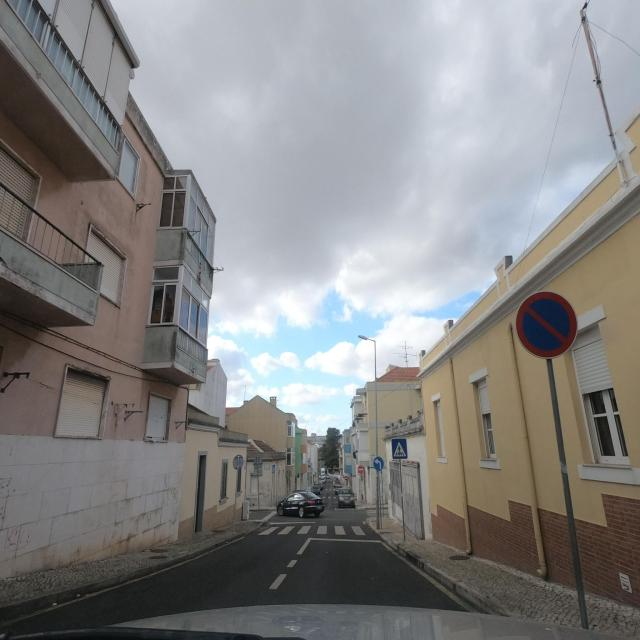forb_stopping: (515, 290, 578, 359)
